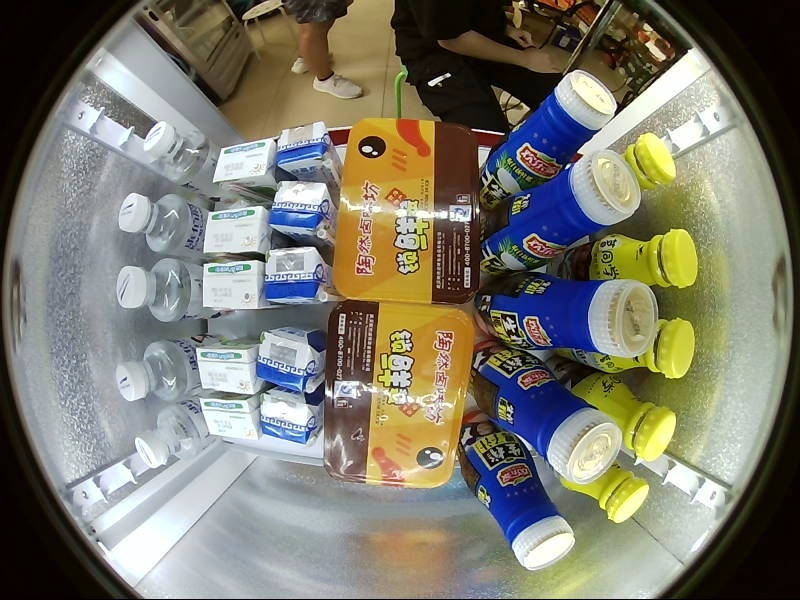ops-m102: (554, 364, 681, 464), (544, 225, 702, 282), (597, 313, 697, 381), (564, 463, 650, 522), (624, 131, 679, 195)
ops-m129: (254, 326, 329, 393), (268, 180, 339, 248), (264, 244, 343, 305), (274, 119, 344, 187), (257, 383, 325, 447)
ops-m149: (210, 138, 278, 206), (194, 336, 265, 396), (200, 259, 279, 309), (201, 207, 270, 259), (198, 391, 261, 436)
ops-m152: (478, 147, 645, 277), (475, 64, 619, 209), (453, 410, 580, 574), (472, 357, 625, 484), (480, 274, 661, 357)
ops-m154: (138, 119, 217, 196), (114, 256, 200, 325), (113, 333, 193, 405), (117, 192, 199, 261), (135, 396, 197, 468)
ops-m155: (321, 300, 476, 490), (329, 115, 477, 301)
